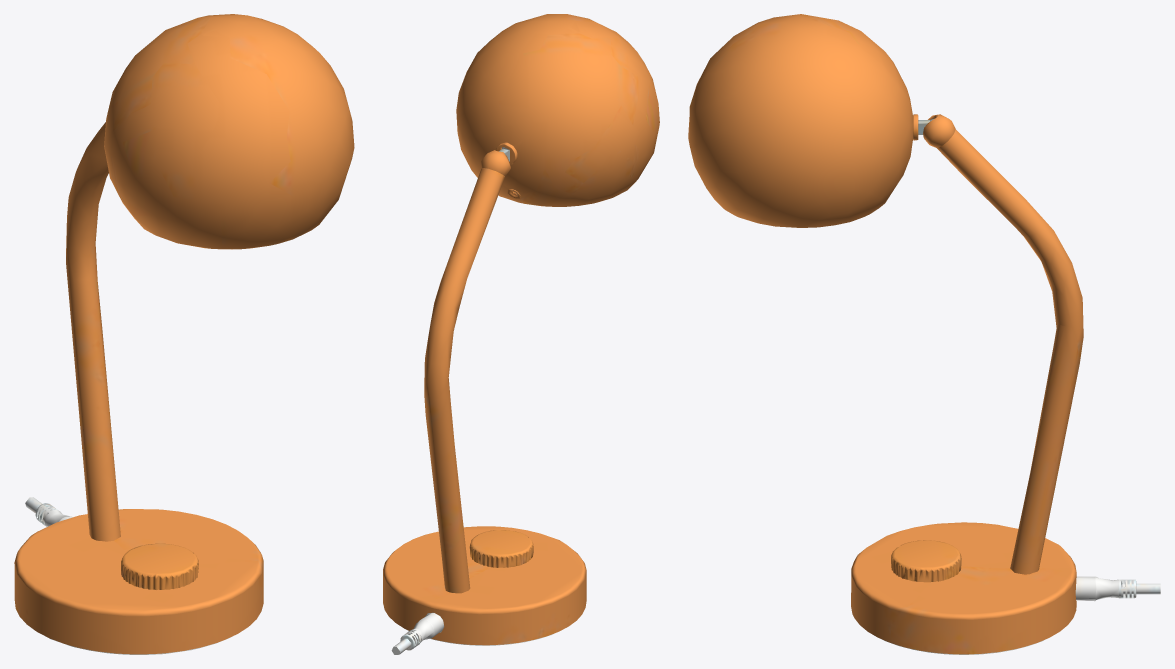
File: 24 - KORVSNÖRE LED desk lamp - dimmableorange.glb
3 renders of one model, left to right at view 1: azimuth 30°, elevation 25°; view 2: azimuth 150°, elevation 25°; view 3: azimuth 270°, elevation 25°, orthographic. The views are drawn at different scales.
Visible parts, largest first — view 1: ASY_ART_40628693_S01_NV01; view 2: ASY_ART_40628693_S01_NV01; view 3: ASY_ART_40628693_S01_NV01.
Part boxes in pixels (x1=…): ASY_ART_40628693_S01_NV01: x1=14, y1=14, x2=354, y2=654; ASY_ART_40628693_S01_NV01: x1=383, y1=14, x2=659, y2=654; ASY_ART_40628693_S01_NV01: x1=688, y1=14, x2=1160, y2=654.
Size of the model in its own units: 0.1202 by 0.3429 by 0.2517.
2 materials, 2 textured.
